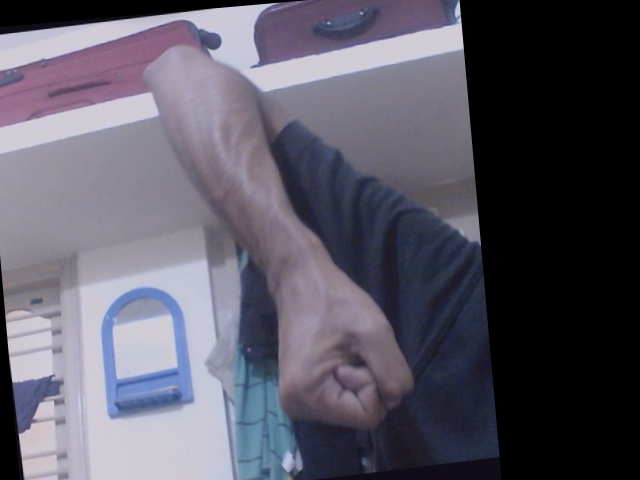hand: (272, 264, 417, 433)
